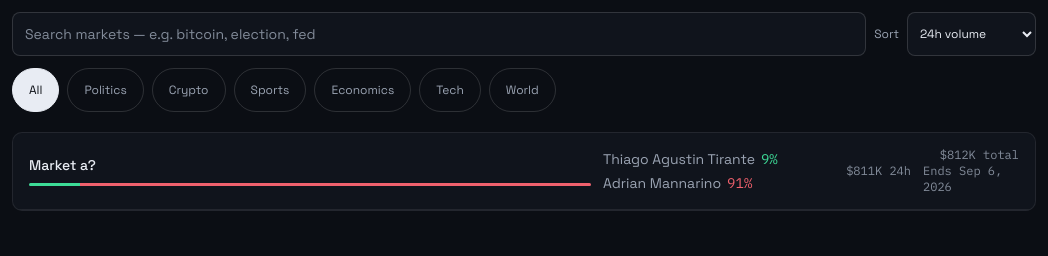
Test: sort control (UX-2) › is unavailable while searching, and says why
Expected: the heading "Market a?" is shown, [29,156,96,174]
Step 1. Type "fed" into the search field labelled "Search markets — e.g. bitcoin, election, fed" → {"x": 439, "y": 34}, box [12,12,866,56]
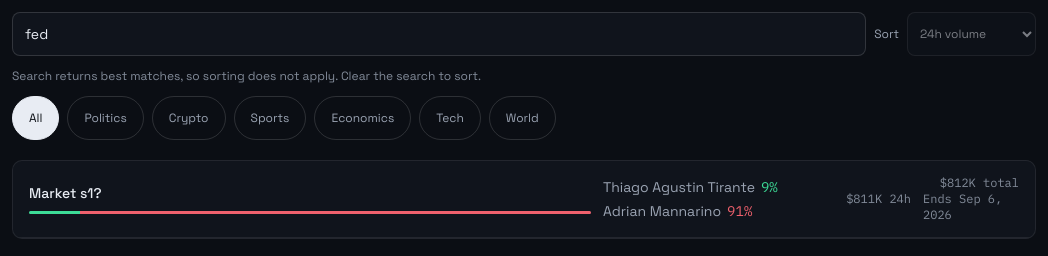
Expected: the heading "Market s1?" is shown, [29,184,102,202]
Expected: the dropdown labelled "Sort" is disabled, [907,12,1036,56]
Expected: the text "best matches" is shown, [12,68,481,84]
